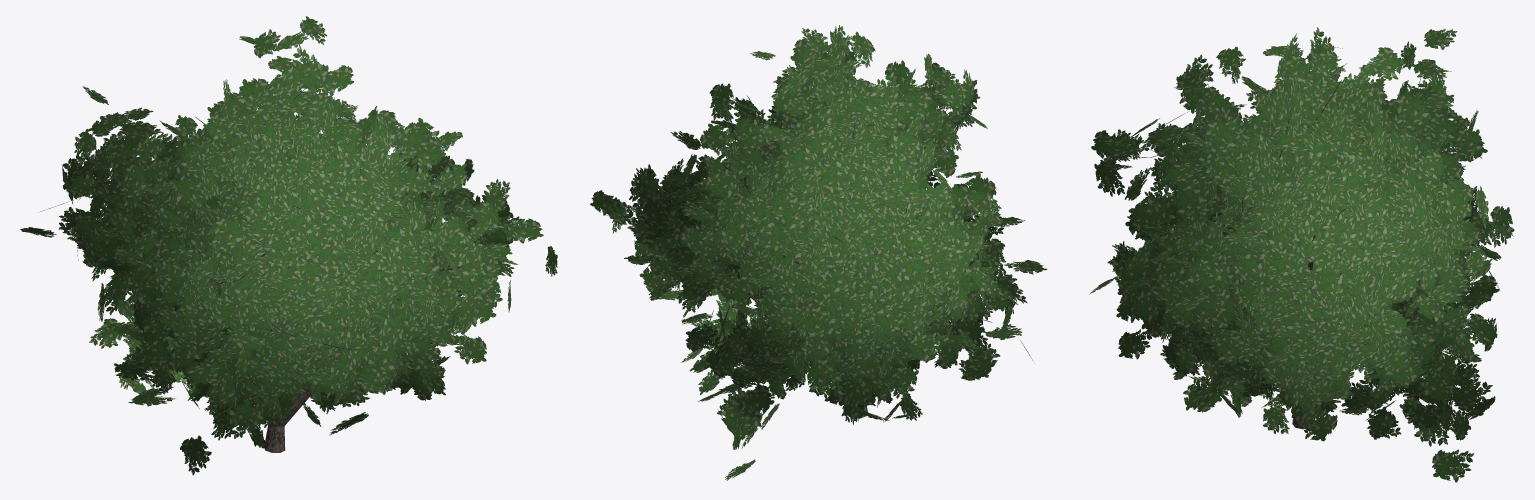
Rendered from HO4_HolmOak_MultiStem_5m.glb.
3 views of the same model, side by side, from view 1: azimuth 30°, elevation 25°; view 2: azimuth 150°, elevation 25°; view 3: azimuth 270°, elevation 25° (orthographic). The views are drawn at different scales.
Visible parts, largest first — view 1: HO4_leaves, HO4_wood; view 2: HO4_leaves, HO4_wood; view 3: HO4_leaves, HO4_wood.
Part boxes in pixels (x1=…): HO4_leaves: x1=20, y1=16, x2=557, y2=475; HO4_wood: x1=84, y1=87, x2=475, y2=452; HO4_leaves: x1=590, y1=25, x2=1047, y2=480; HO4_wood: x1=640, y1=54, x2=992, y2=418; HO4_leaves: x1=1089, y1=27, x2=1514, y2=482; HO4_wood: x1=1124, y1=77, x2=1448, y2=429.
Size of the model in its own units: 5.74 by 5.36 by 4.83.
2 materials, 2 textured.
